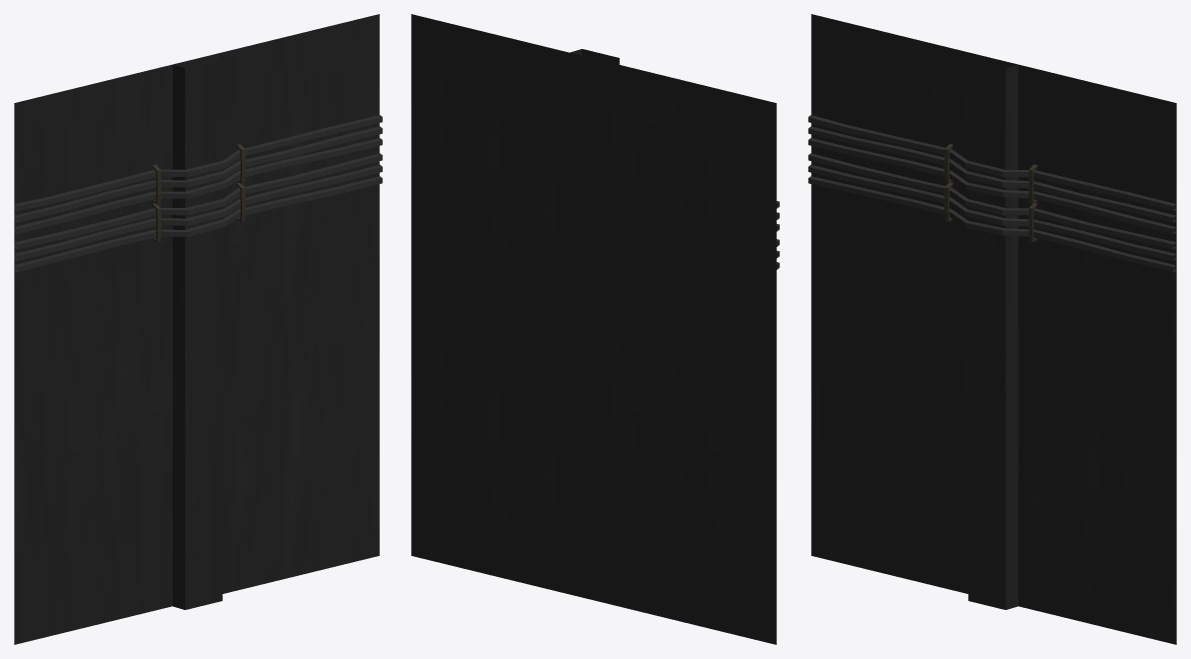
File: SW_ENV_RailTunnelWall_B_01b_03m_FF.fbx
3 renders of one model, left to right at view 1: azimuth 30°, elevation 25°; view 2: azimuth 150°, elevation 25°; view 3: azimuth 330°, elevation 25°, orthographic.
Visible parts, largest first — view 1: SW_ENV_RailTunnelWall_B_01b_03m_FF; view 2: SW_ENV_RailTunnelWall_B_01b_03m_FF; view 3: SW_ENV_RailTunnelWall_B_01b_03m_FF.
Boxes of the visible parts, x1=… form: SW_ENV_RailTunnelWall_B_01b_03m_FF: x1=14, y1=14, x2=382, y2=644; SW_ENV_RailTunnelWall_B_01b_03m_FF: x1=411, y1=14, x2=779, y2=644; SW_ENV_RailTunnelWall_B_01b_03m_FF: x1=808, y1=14, x2=1176, y2=644.
Bounding box in the file's own units: 300 × 425 × 14.53.
